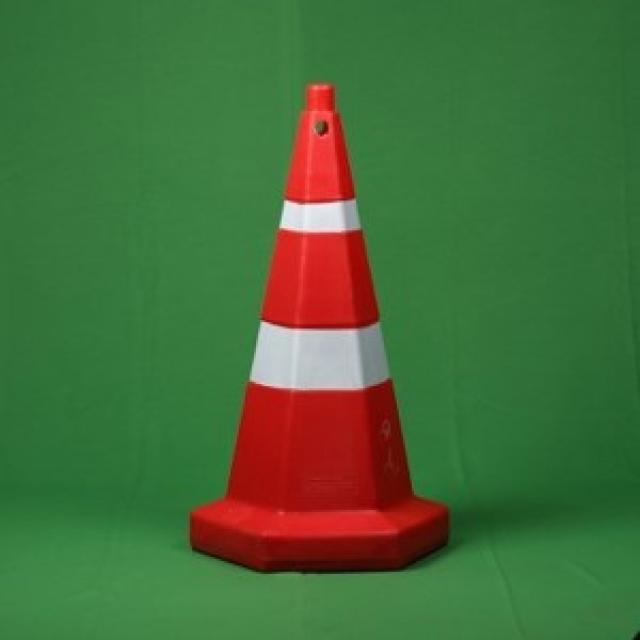Traffic Cone: (188, 79, 448, 570)
